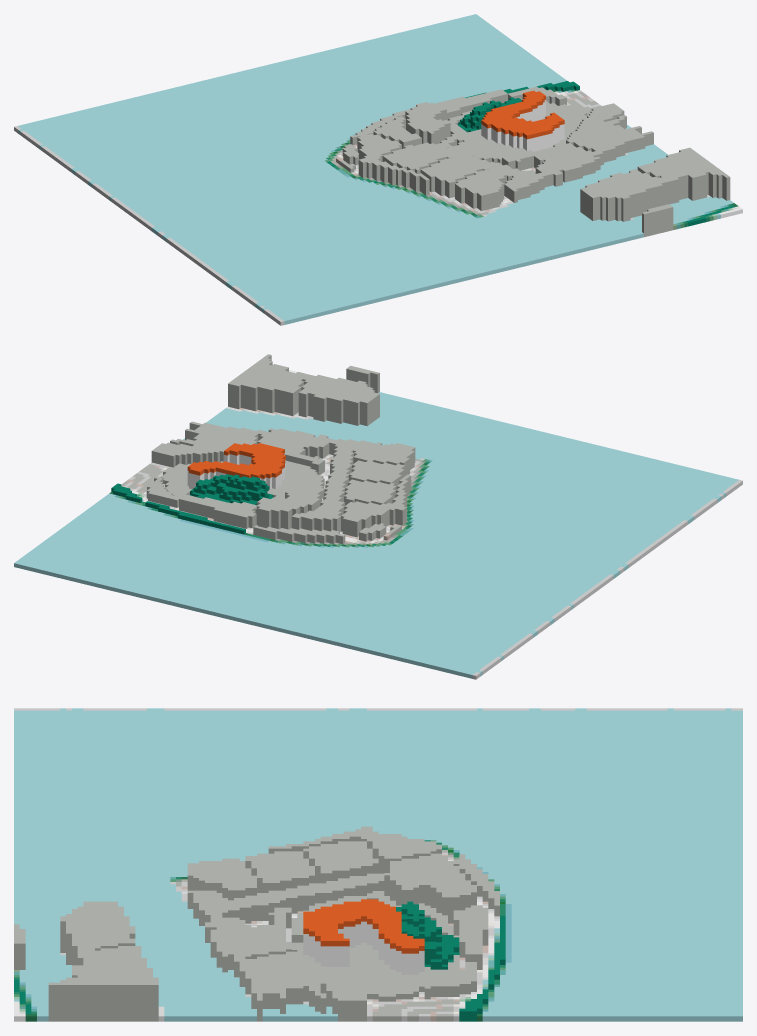
File: 210519newbigMacaumap-9.obj
The picture shows the model from 3 angles, top to bottom: view 1: azimuth 30°, elevation 25°; view 2: azimuth 150°, elevation 25°; view 3: azimuth 270°, elevation 25°; orthographic projection. The views are drawn at different scales.
Size of the model in its own units: 12.6 by 0.7 by 12.6.
1 material, 1 textured.
